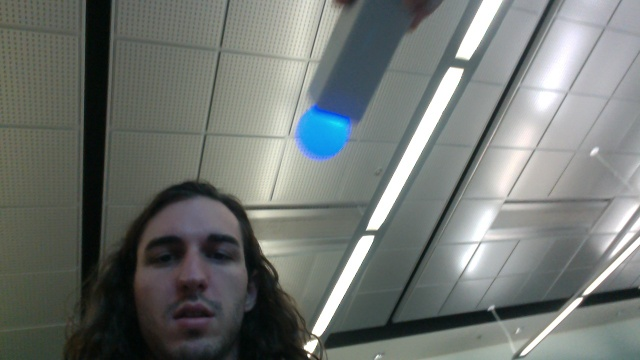wand: (297, 108, 349, 160)
